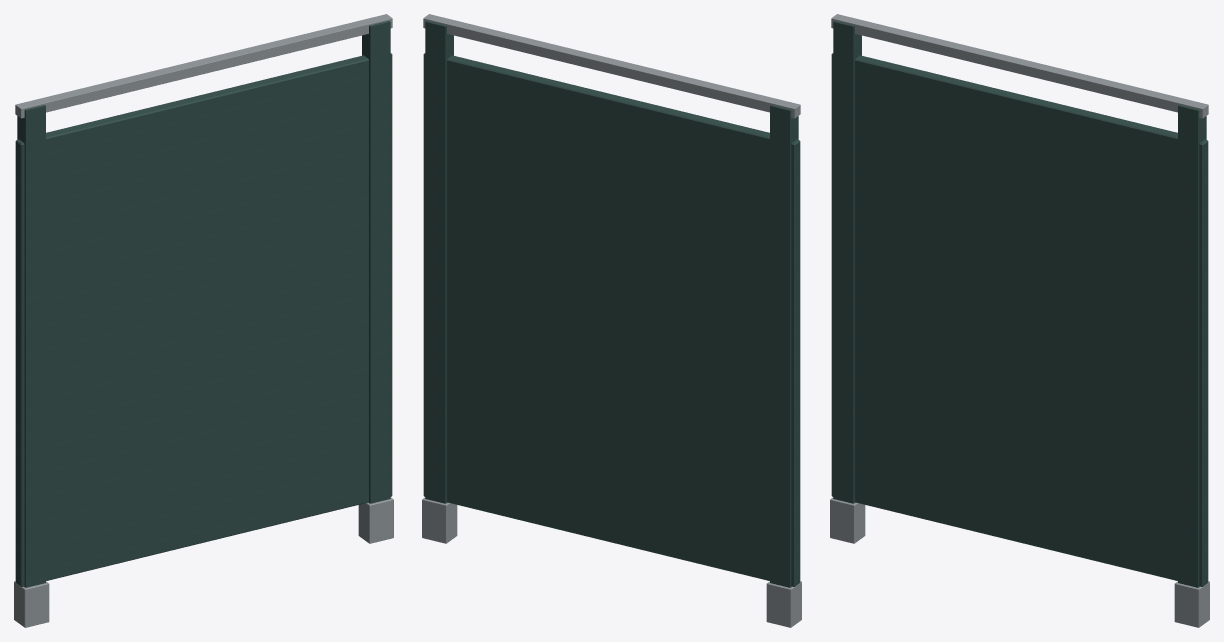
Rendered from restroom_stall_front_wide.glb.
The picture shows the model from 3 angles, left to right: view 1: azimuth 30°, elevation 25°; view 2: azimuth 150°, elevation 25°; view 3: azimuth 330°, elevation 25°; orthographic projection.
Parts seen in each view (by area): view 1: restroom_stall_front_wide; view 2: restroom_stall_front_wide; view 3: restroom_stall_front_wide.
Part boxes in pixels (x1,y1,x2,y2): restroom_stall_front_wide: (14,14,393,627); restroom_stall_front_wide: (422,14,801,627); restroom_stall_front_wide: (830,14,1209,627).
Bounding box in the file's own units: 1.5 × 2 × 0.078.
2 materials, 2 textured.
